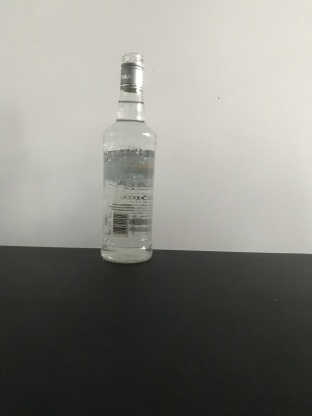nakretka: (118, 50, 145, 93)
